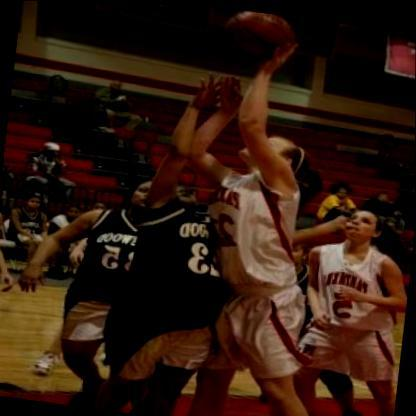basketball: (213, 5, 301, 69)
